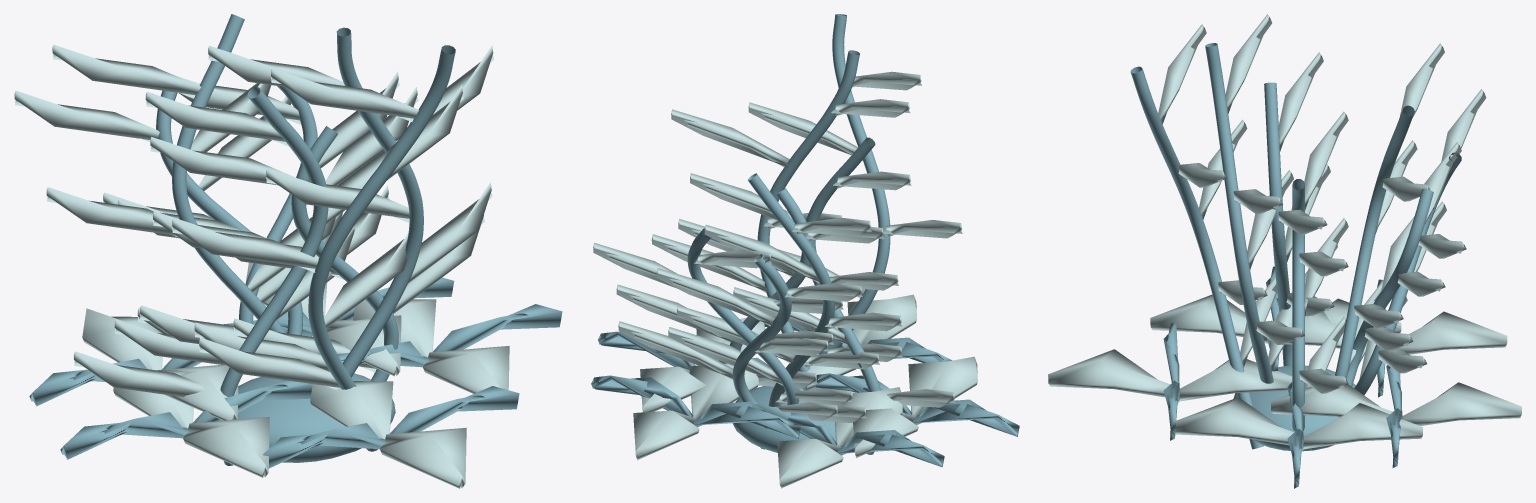
File: bio_aquatic_frond_05_near.glb
3 views of the same model, side by side, from view 1: azimuth 30°, elevation 25°; view 2: azimuth 150°, elevation 25°; view 3: azimuth 270°, elevation 25° (orthographic). The views are drawn at different scales.
Parts seen in each view (by area): view 1: Ruffled aquatic blade.010, Ruffled aquatic blade.025, Ruffled aquatic blade.020, Ruffled aquatic blade.005, Low buttress leaf.009, Ruffled aquatic blade, Flexible stipe.002, Ruffled aquatic blade.015, Ruffled aquatic blade.030, Low buttress leaf.001, Low buttress leaf.017, Flexible stipe.005 (+13 smaller); view 2: Ruffled aquatic blade.030, Ruffled aquatic blade.005, Ruffled aquatic blade.025, Ruffled aquatic blade.020, Ruffled aquatic blade.015, Ruffled aquatic blade.010, Low buttress leaf.013, Low buttress leaf.017, Ruffled aquatic blade, Low buttress leaf.005, Low buttress leaf.012, Flexible stipe.002 (+13 smaller); view 3: Low buttress leaf.001, Low buttress leaf.009, Low buttress leaf.013, Ruffled aquatic blade, Flexible stipe.005, Ruffled aquatic blade.025, Flexible stipe.002, Ruffled aquatic blade.010, Low buttress leaf.005, Ruffled aquatic blade.005, Flexible stipe.001, Ruffled aquatic blade.030 (+11 smaller).
Part boxes in pixels (bbox=[...]): Ruffled aquatic blade.010: bbox=[172, 68, 463, 389]; Ruffled aquatic blade.025: bbox=[194, 45, 494, 371]; Ruffled aquatic blade.020: bbox=[73, 87, 418, 397]; Ruffled aquatic blade.005: bbox=[46, 44, 335, 343]; Low buttress leaf.009: bbox=[310, 381, 466, 488]; Ruffled aquatic blade: bbox=[150, 137, 484, 372]; Flexible stipe.002: bbox=[308, 45, 455, 451]; Ruffled aquatic blade.015: bbox=[114, 71, 399, 364]; Ruffled aquatic blade.030: bbox=[14, 90, 389, 334]; Low buttress leaf.001: bbox=[353, 299, 509, 393]; Low buttress leaf.017: bbox=[113, 362, 269, 477]; Flexible stipe.005: bbox=[336, 27, 423, 377]; Ruffled aquatic blade.030: bbox=[618, 268, 862, 420]; Ruffled aquatic blade.005: bbox=[677, 217, 902, 406]; Ruffled aquatic blade.025: bbox=[651, 99, 910, 369]; Ruffled aquatic blade.020: bbox=[690, 171, 955, 407]; Ruffled aquatic blade.015: bbox=[593, 242, 866, 422]; Ruffled aquatic blade.010: bbox=[748, 71, 962, 361]; Low buttress leaf.013: bbox=[633, 363, 758, 460]; Low buttress leaf.017: bbox=[853, 356, 977, 458]; Ruffled aquatic blade: bbox=[616, 219, 884, 388]; Low buttress leaf.005: bbox=[777, 387, 902, 488]; Low buttress leaf.012: bbox=[591, 375, 800, 438]; Flexible stipe.002: bbox=[819, 14, 890, 354]; Low buttress leaf.001: bbox=[1175, 397, 1422, 450]; Low buttress leaf.009: bbox=[1048, 349, 1292, 402]; Low buttress leaf.013: bbox=[1270, 382, 1521, 425]; Ruffled aquatic blade: bbox=[1299, 111, 1348, 415]; Flexible stipe.005: bbox=[1205, 43, 1273, 383]; Ruffled aquatic blade.025: bbox=[1225, 14, 1306, 371]; Flexible stipe.002: bbox=[1130, 66, 1263, 449]; Ruffled aquatic blade.010: bbox=[1158, 24, 1277, 366]; Low buttress leaf.005: bbox=[1263, 311, 1507, 354]; Ruffled aquatic blade.005: bbox=[1348, 43, 1444, 370]; Flexible stipe.001: bbox=[1335, 105, 1414, 379]; Ruffled aquatic blade.030: bbox=[1359, 89, 1486, 379].
Bounding box in the file's own units: 2.22 × 1.89 × 2.09.
